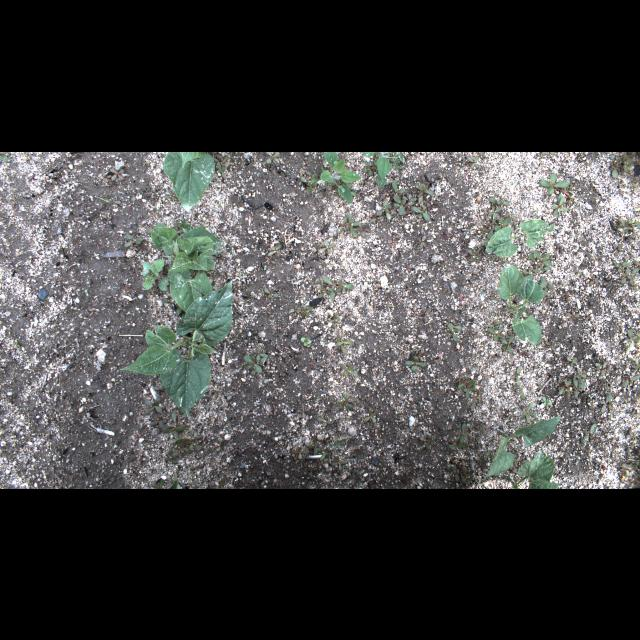crop: (120, 280, 232, 416), (150, 218, 224, 312), (486, 416, 562, 476), (498, 264, 544, 346), (162, 152, 215, 206), (485, 217, 555, 257), (511, 452, 562, 488), (167, 480, 181, 488)
weed: (319, 151, 361, 203), (362, 152, 404, 188), (539, 172, 577, 202), (316, 275, 354, 301), (522, 250, 552, 280), (140, 258, 168, 290), (243, 347, 269, 375), (320, 439, 346, 463), (163, 411, 185, 437), (610, 152, 632, 178), (480, 213, 510, 231), (394, 192, 416, 214), (338, 213, 360, 234), (382, 178, 403, 200), (457, 376, 477, 398), (173, 426, 199, 442), (581, 423, 601, 443), (415, 183, 435, 201), (336, 334, 354, 354), (300, 174, 318, 194), (142, 398, 162, 416), (289, 302, 313, 316), (405, 355, 423, 373), (94, 188, 110, 208), (411, 204, 431, 220), (448, 319, 462, 341), (618, 219, 640, 233), (552, 197, 568, 216), (304, 438, 322, 454), (612, 258, 630, 274), (149, 412, 167, 428), (522, 402, 536, 422), (540, 276, 554, 296), (184, 436, 203, 450), (290, 446, 310, 459), (376, 202, 392, 218), (318, 239, 336, 253), (620, 462, 638, 476), (627, 328, 639, 349), (454, 422, 466, 443), (124, 234, 144, 246), (510, 365, 522, 385), (338, 363, 358, 375), (602, 392, 614, 412), (560, 378, 572, 398), (419, 436, 436, 450), (461, 467, 474, 485), (488, 196, 509, 207), (363, 159, 377, 175), (338, 395, 352, 411), (331, 456, 347, 470), (591, 361, 607, 375), (175, 439, 191, 453), (481, 228, 493, 246), (621, 375, 639, 387), (501, 336, 514, 352), (446, 466, 459, 482), (364, 410, 381, 422), (574, 378, 584, 398), (296, 404, 310, 418), (488, 326, 502, 340), (488, 205, 502, 219), (628, 354, 640, 370), (217, 160, 227, 178), (449, 439, 469, 448), (110, 167, 124, 179), (268, 244, 282, 256), (467, 154, 479, 168), (620, 268, 632, 282), (164, 450, 178, 462), (264, 152, 280, 162), (468, 249, 480, 261), (316, 416, 330, 426), (358, 226, 372, 236), (264, 288, 278, 298), (151, 478, 165, 488), (371, 212, 384, 222), (578, 369, 586, 385), (300, 336, 312, 346), (542, 395, 552, 405), (566, 355, 576, 365), (14, 338, 22, 350), (489, 321, 501, 329), (264, 256, 276, 264), (615, 243, 623, 254), (566, 311, 580, 317), (100, 172, 110, 180), (508, 212, 518, 220), (330, 315, 340, 323), (420, 234, 426, 246), (632, 260, 638, 272), (628, 178, 636, 186), (164, 298, 172, 306), (0, 154, 10, 160), (220, 156, 230, 162), (631, 281, 637, 291), (176, 304, 182, 314), (130, 243, 138, 250), (520, 386, 524, 399), (84, 288, 90, 296), (110, 199, 122, 203), (574, 268, 582, 274), (437, 373, 441, 385), (262, 264, 268, 270), (230, 245, 234, 252), (541, 152, 555, 154)
